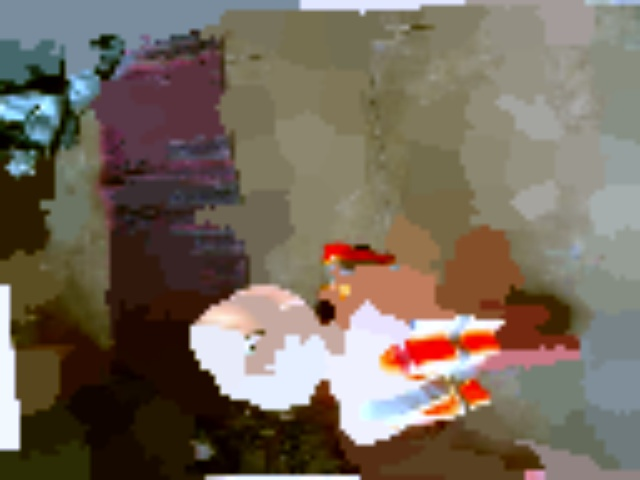three: (234, 330, 291, 374)
